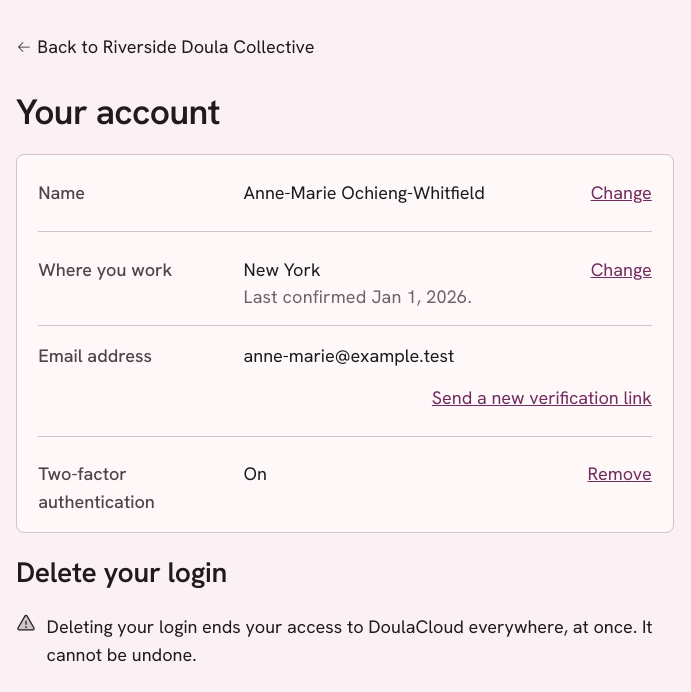
it: removing a second factor (#606) › refuses an empty code without resolving sign-in
This screenshot has width=691, height=692.
Click the button "Remove".
click(620, 474)  # box top-left (588, 452), bottom-right (652, 496)
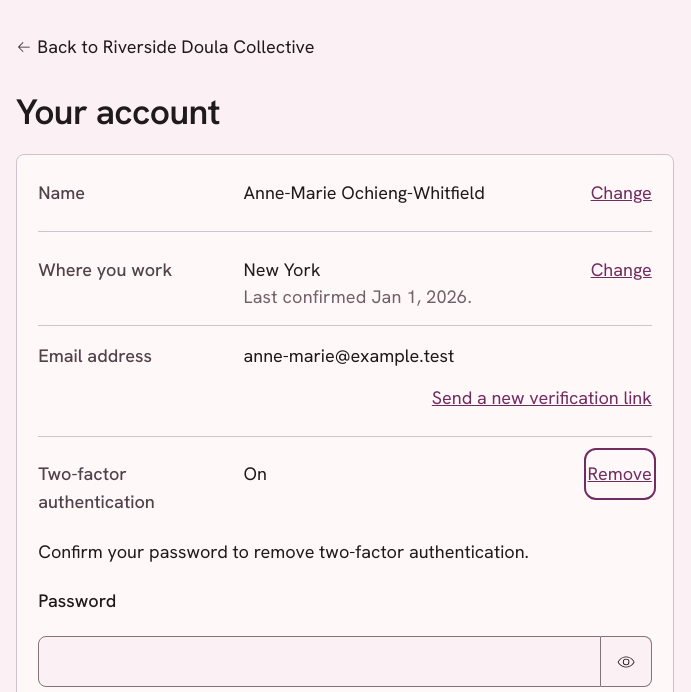
Check: the password field labelled "Password" is shown
Type "correct horse" into the password field labelled "Password".
click(319, 662); type("correct horse")  # box top-left (38, 636), bottom-right (601, 687)
(page scrolled)
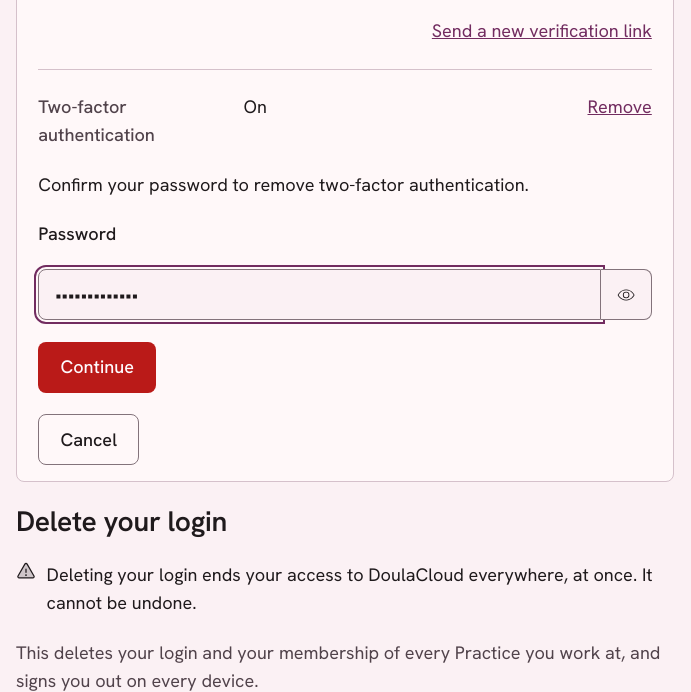
Click the button "Continue".
click(97, 367)  # box top-left (38, 342), bottom-right (156, 393)
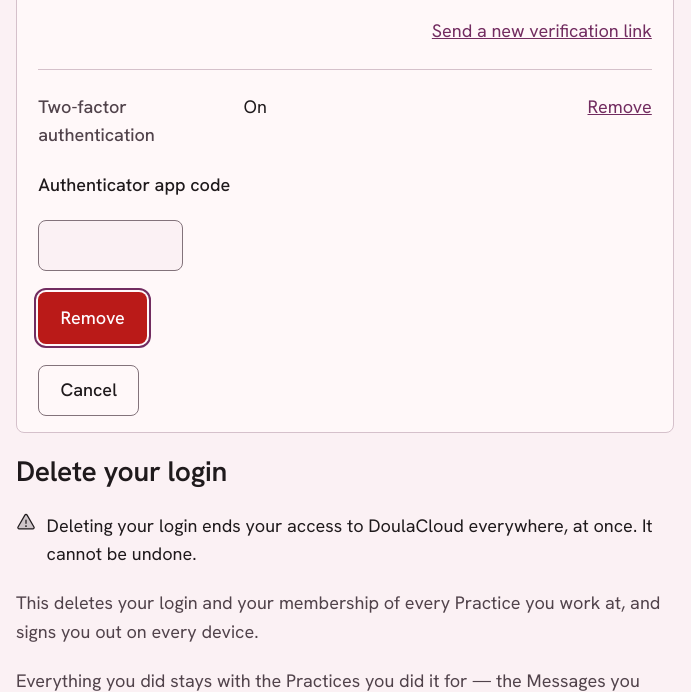
Check: the field labelled "Authenticator app code" is shown, box top-left (38, 220), bottom-right (183, 271)
Click the button "Remove" below "Authenticator app code".
click(93, 318)  # box top-left (38, 292), bottom-right (147, 344)
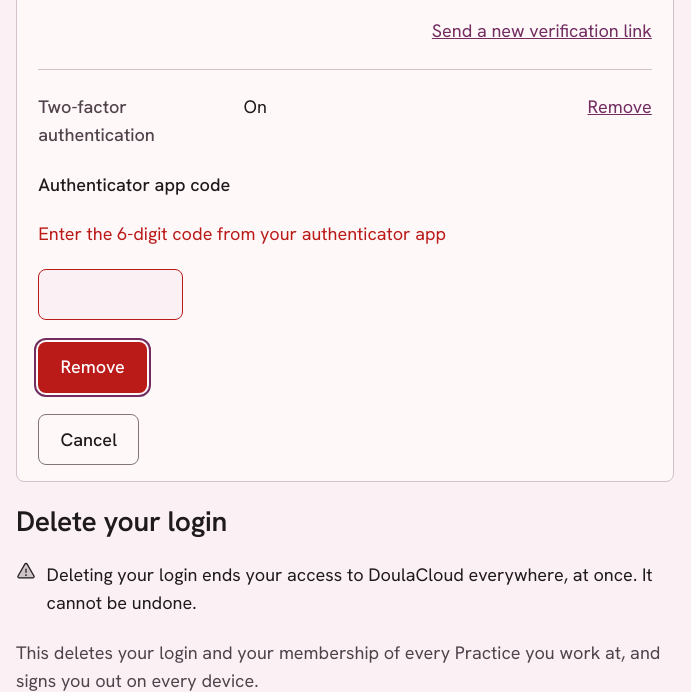
Check: the message "Enter the 6-digit code from your authenticator app" is shown, box top-left (38, 222), bottom-right (446, 245)
